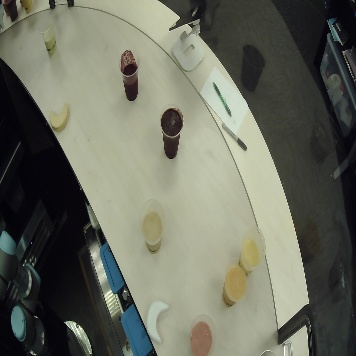full_cup: (139, 196, 168, 263), (158, 99, 185, 166), (237, 228, 267, 279), (116, 47, 141, 105), (187, 311, 218, 356), (221, 264, 249, 308), (40, 20, 63, 54), (1, 1, 20, 22), (23, 1, 37, 14)
puck: (143, 298, 173, 347), (46, 101, 72, 135)
